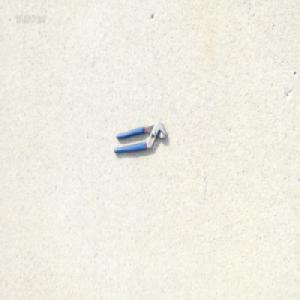Pliers: (112, 120, 167, 155)
